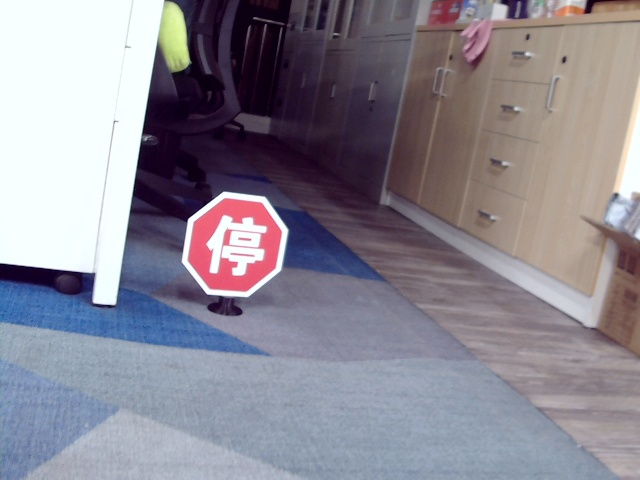stop: (202, 211, 266, 278)
